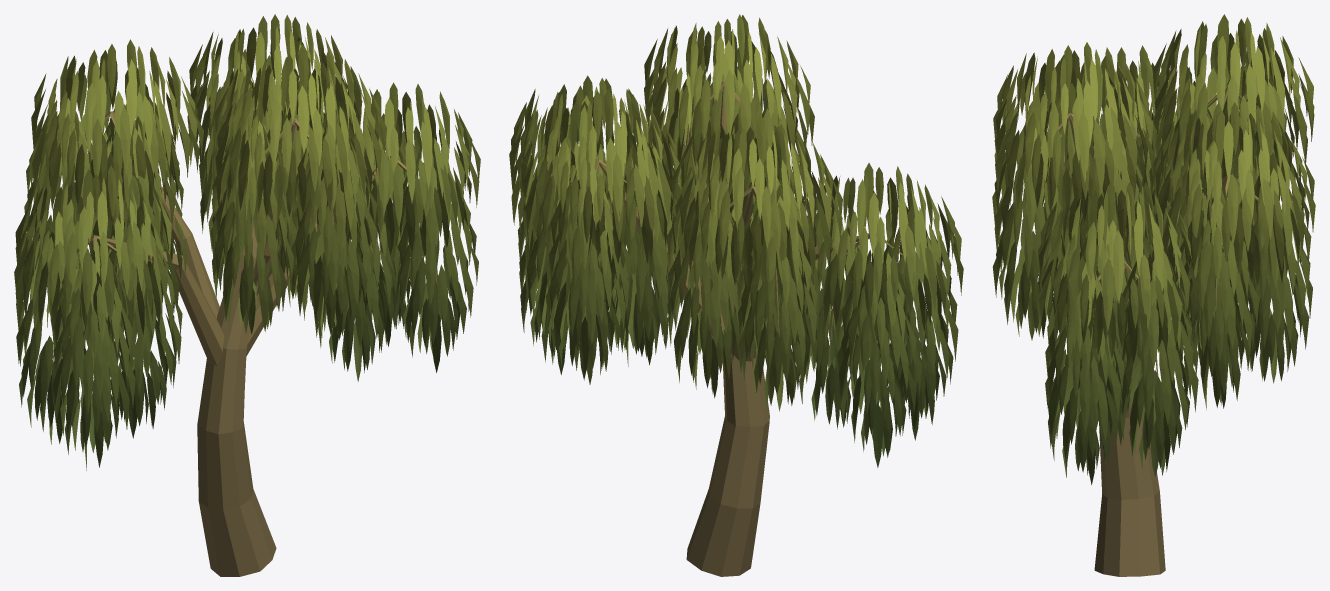
The model's file is dressing-willow.glb.
The picture shows the model from 3 angles, left to right: view 1: azimuth 30°, elevation 25°; view 2: azimuth 150°, elevation 25°; view 3: azimuth 270°, elevation 25°; orthographic projection. The views are drawn at different scales.
Parts seen in each view (by area): view 1: willow-hanging-folded-leaves, willow-curving-boughs; view 2: willow-hanging-folded-leaves, willow-curving-boughs; view 3: willow-hanging-folded-leaves, willow-curving-boughs.
Part boxes in pixels (bbox=[...]): willow-hanging-folded-leaves: bbox=[14, 14, 480, 470]; willow-curving-boughs: bbox=[52, 111, 438, 576]; willow-hanging-folded-leaves: bbox=[509, 14, 963, 467]; willow-curving-boughs: bbox=[568, 80, 902, 576]; willow-hanging-folded-leaves: bbox=[992, 14, 1315, 484]; willow-curving-boughs: bbox=[1040, 85, 1271, 576].
Bounding box in the file's own units: 4.84 × 5.44 × 2.95.
